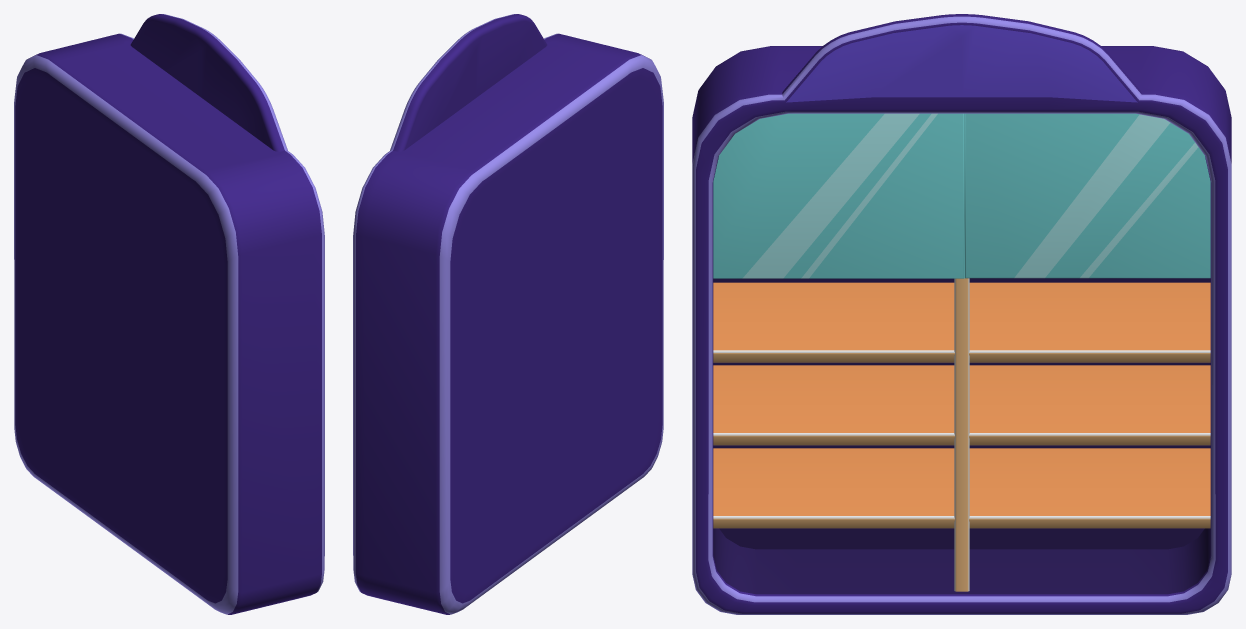
Rendered from ShelfLvl3.fbx.
3 renders of one model, left to right at view 1: azimuth 30°, elevation 25°; view 2: azimuth 150°, elevation 25°; view 3: azimuth 270°, elevation 25°, orthographic. The views are drawn at different scales.
Visible parts, largest first — view 1: Shelf; view 2: Shelf; view 3: Shelf, Rglass, Lglass, shelf.013, shelf.014, shelf.015, MidleLine.002.
Boxes of the visible parts, <box> form: Shelf: <box>14,14,324,614</box>; Shelf: <box>353,14,663,614</box>; Shelf: <box>692,14,1231,614</box>; Rglass: <box>713,113,964,278</box>; Lglass: <box>964,113,1210,278</box>; shelf.013: <box>713,365,1210,445</box>; shelf.014: <box>713,282,1210,362</box>; shelf.015: <box>713,448,1210,528</box>; MidleLine.002: <box>954,278,969,591</box>.
Size of the model in its own units: 146 by 729 by 597.
